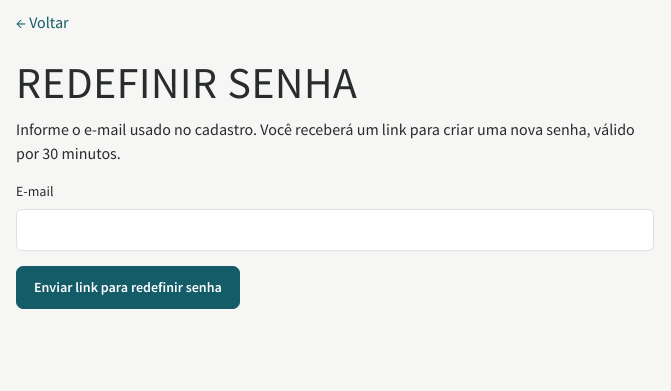
Test case: Redefinir senha › informa a indisponibilidade de e-mail sem anunciar sucesso
Type "candidato@example.com" into the field labelled "E-mail" at (335, 230), box [16,208,654,250]
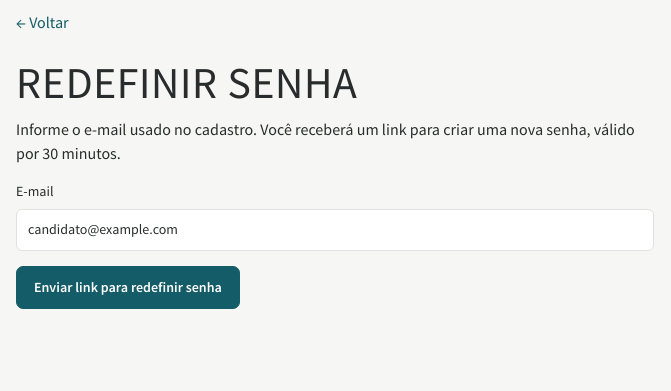
Click the button "Enviar link para redefinir senha" at (128, 287), box [16,266,240,308]
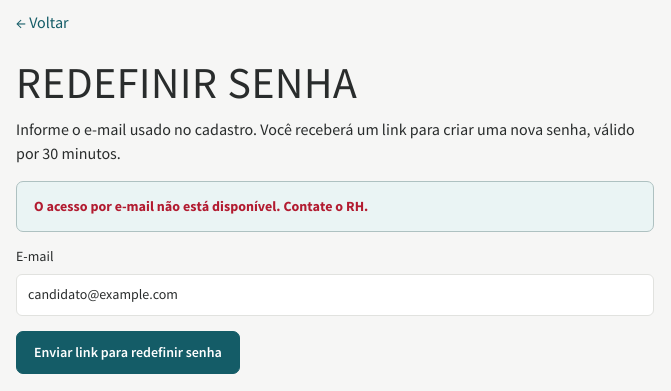
expect the button "Enviar link para redefinir senha" is enabled: met, box [16,330,240,374]
expect the message shows "Contate o RH": met, box [34,196,368,214]
